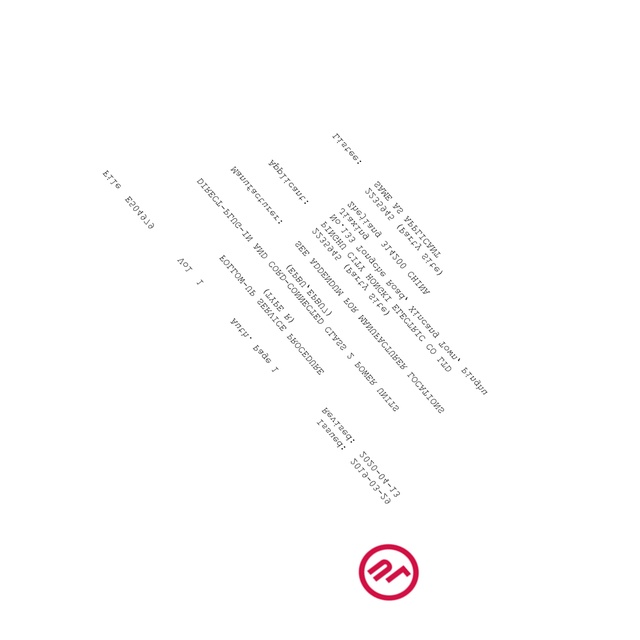ul: (357, 541, 420, 602)
